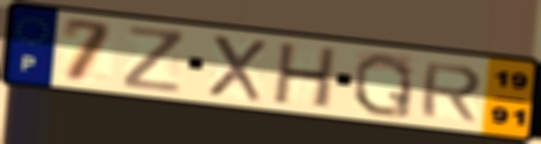7: (58, 16, 119, 84)
H: (269, 41, 341, 112)
Q: (351, 50, 417, 121)
R: (416, 60, 486, 124)
X: (205, 32, 269, 105)
Z: (121, 23, 187, 96)
